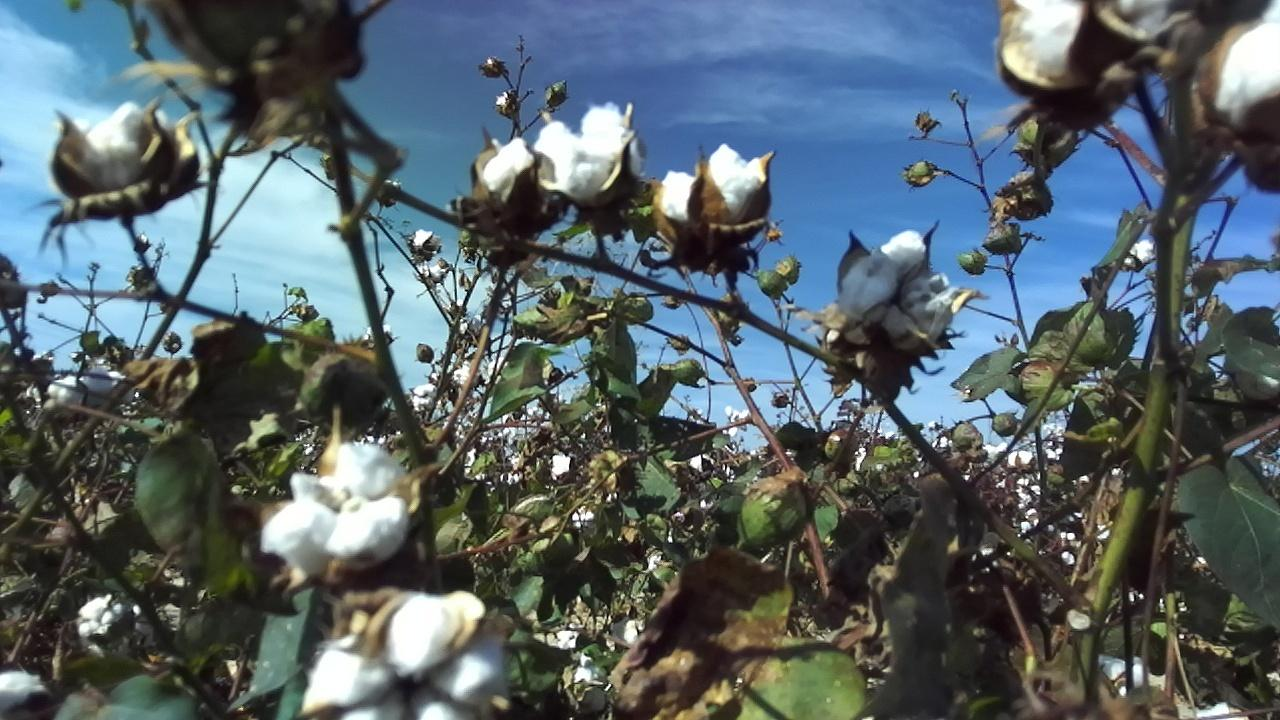cotton_ready: (300, 594, 507, 720), (262, 439, 408, 567), (994, 0, 1164, 107), (1199, 4, 1280, 188), (52, 99, 184, 205), (839, 230, 954, 347), (530, 102, 650, 212), (651, 144, 776, 239), (475, 134, 540, 208)
